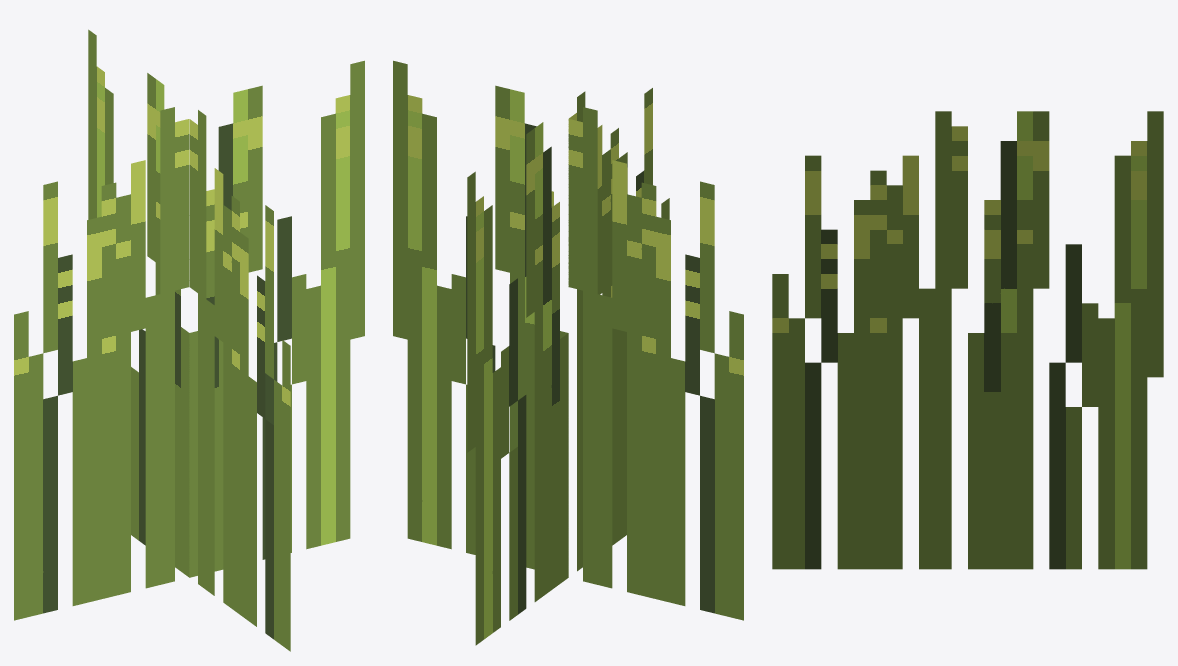
Rendered from grass_2.glb.
The picture shows the model from 3 angles, left to right: view 1: azimuth 30°, elevation 25°; view 2: azimuth 150°, elevation 25°; view 3: azimuth 270°, elevation 25°; orthographic projection. The views are drawn at different scales.
Parts seen in each view (by area): view 1: grass_2; view 2: grass_2; view 3: grass_2.
Boxes of the visible parts, box(x1,y1,x2,y2) form: grass_2: box(14, 29, 364, 651); grass_2: box(393, 60, 743, 645); grass_2: box(772, 111, 1163, 569).
Size of the model in its own units: 24 by 32 by 24.
1 material, 1 textured.
